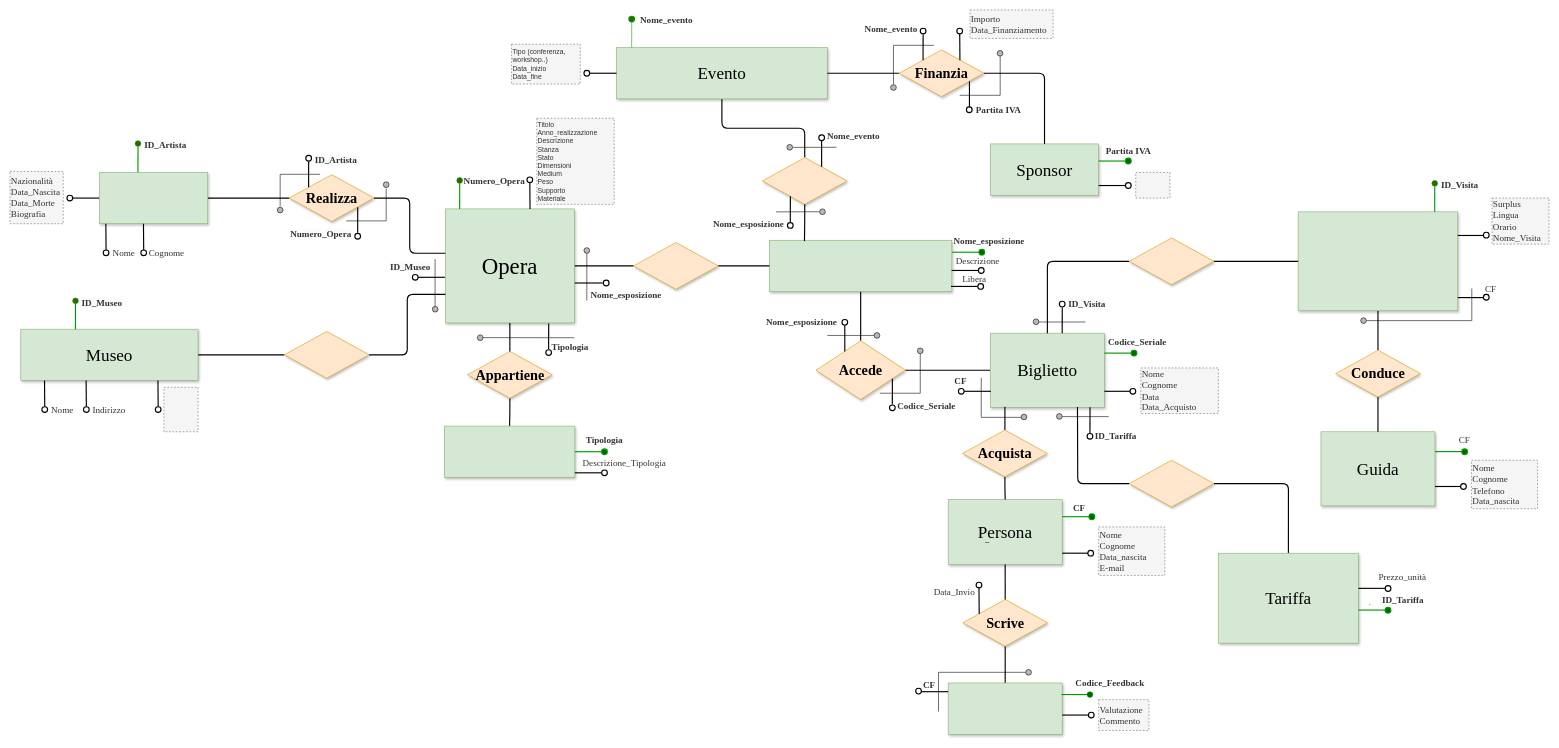
The diagram is 1559 pixels wide and 748 high, and some of its shapes have lost their labels. Here are the shapes that lost their labels. From the top down, the centre of each, then its label:
At pixel 154 199: "Artista".
At pixel 805 181: "Presenta".
At pixel 1152 185: "Nome E-mail".
At pixel 676 266: "Contiene".
At pixel 861 266: "Esposizione".
At pixel 1171 262: "Comprende".
At pixel 1378 262: "Visita_Guidata".
At pixel 327 355: "Presta".
At pixel 180 409: "Telefono E-mail Città".
At pixel 509 452: "Tipologia_Opera".
At pixel 1171 484: "Include".
At pixel 1005 709: "Feedback".
